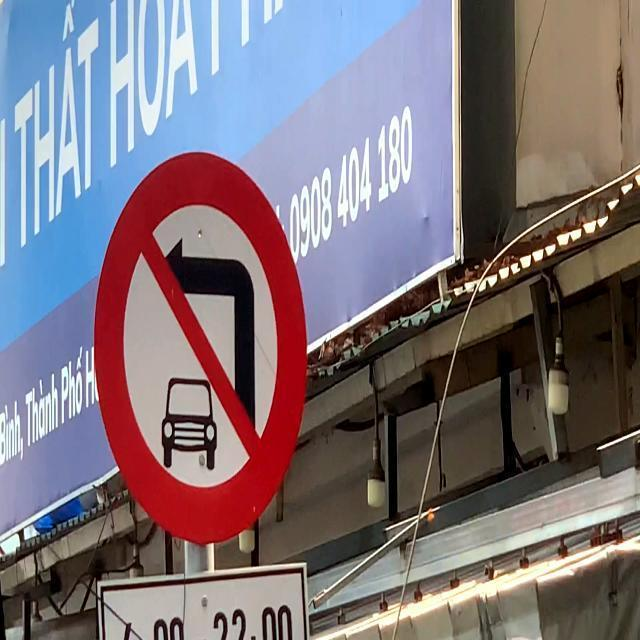123a-cam-re-trai: (92, 148, 307, 544)
